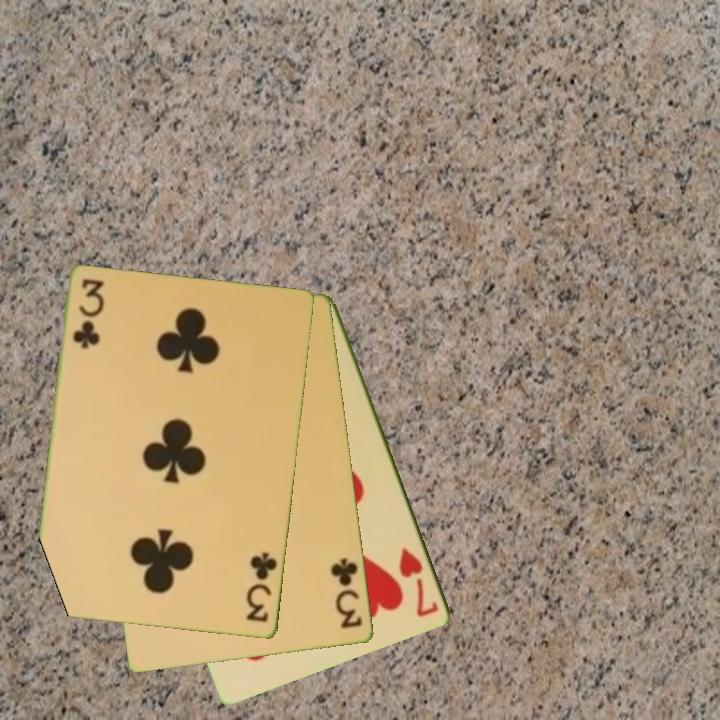3c: (243, 549, 281, 626), (328, 554, 365, 632), (69, 275, 106, 352)
7h: (396, 543, 442, 621)
